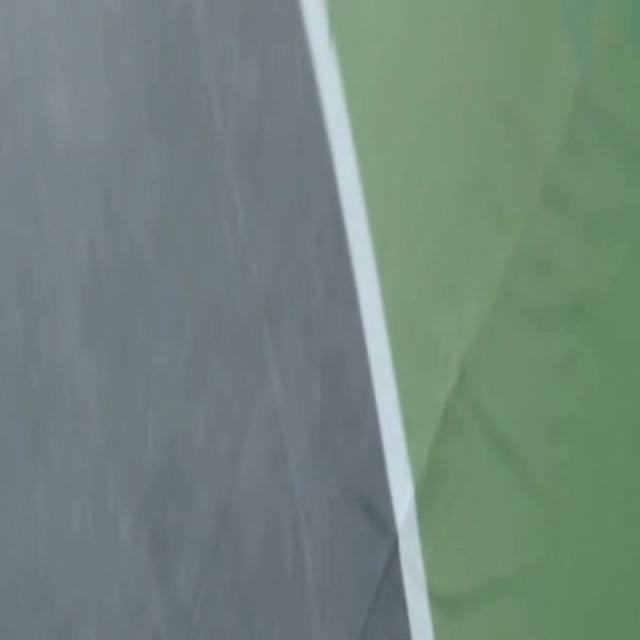right: (302, 0, 436, 639)
